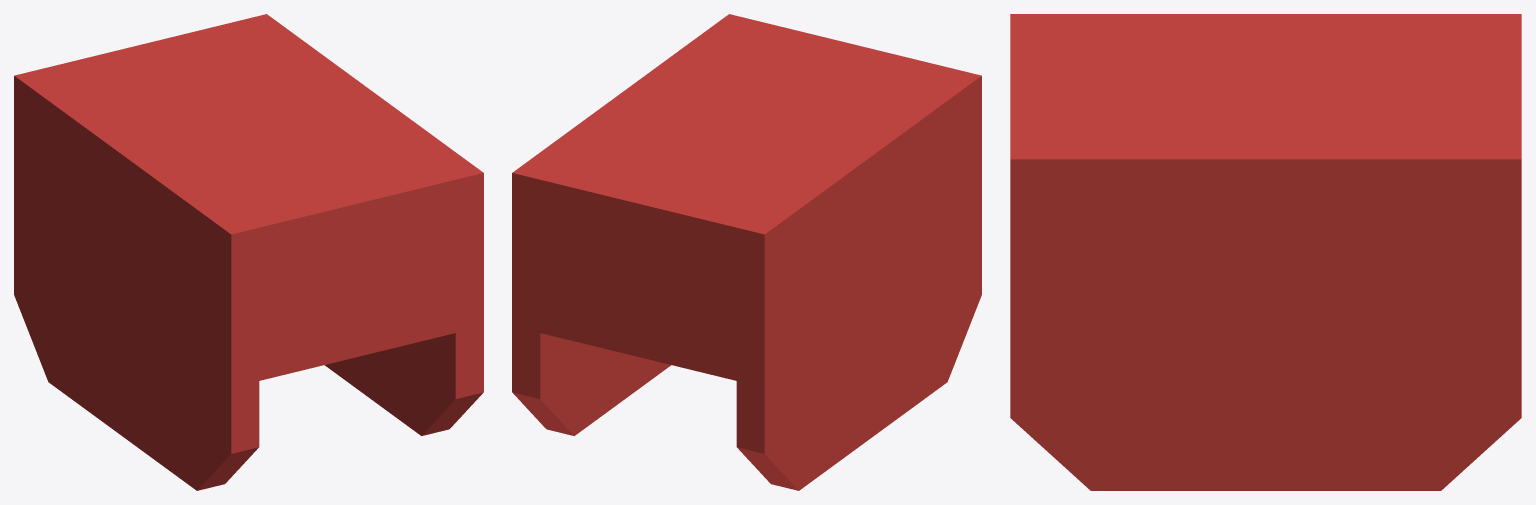
The picture shows the model from 3 angles, left to right: view 1: azimuth 30°, elevation 25°; view 2: azimuth 150°, elevation 25°; view 3: azimuth 270°, elevation 25°; orthographic projection. The views are drawn at different scales.
Parts seen in each view (by area): view 1: Wrist_Joint; view 2: Wrist_Joint; view 3: Wrist_Joint.
Part boxes in pixels (bbox=[...]): Wrist_Joint: bbox=[14, 14, 483, 490]; Wrist_Joint: bbox=[512, 14, 981, 490]; Wrist_Joint: bbox=[1010, 14, 1521, 490].
Bounding box in the file's own units: 1.36 × 2.03 × 1.45.
